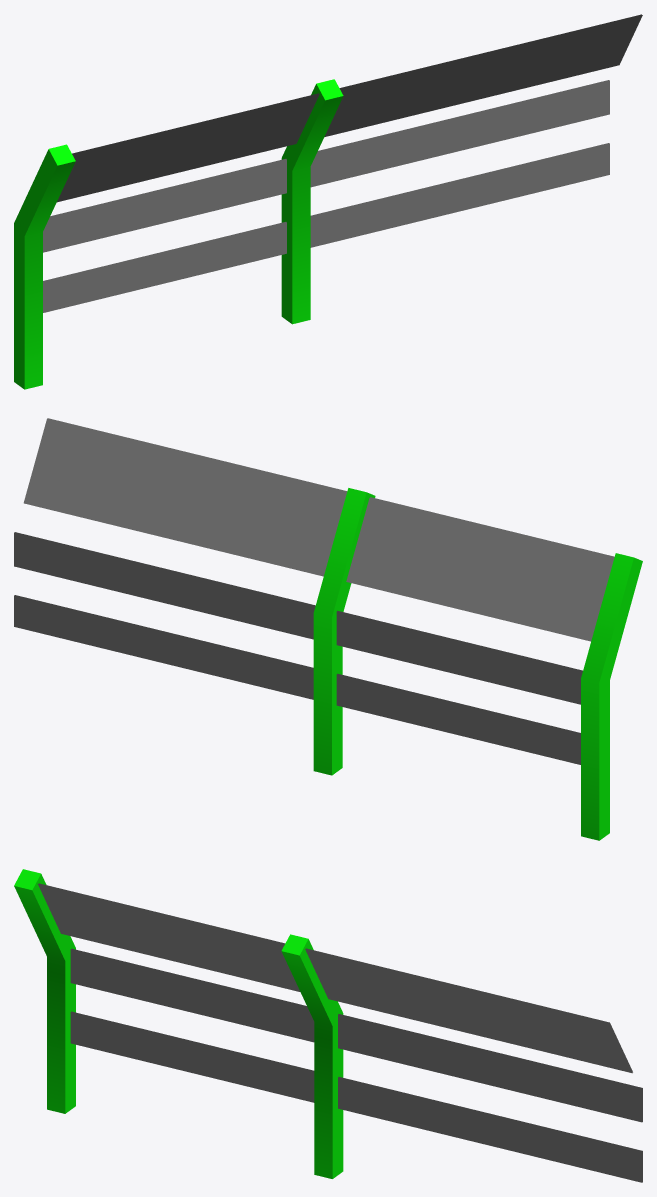
Rendered from Fence_BarbedTrim_End2.FBX.
3 renders of one model, top to bottom at view 1: azimuth 30°, elevation 25°; view 2: azimuth 150°, elevation 25°; view 3: azimuth 330°, elevation 25°, orthographic.
Parts seen in each view (by area): view 1: Fence_BarbedTrim_End2; view 2: Fence_BarbedTrim_End2; view 3: Fence_BarbedTrim_End2.
Boxes of the visible parts, x1=… form: Fence_BarbedTrim_End2: x1=14, y1=14, x2=642, y2=389; Fence_BarbedTrim_End2: x1=14, y1=418, x2=642, y2=840; Fence_BarbedTrim_End2: x1=14, y1=869, x2=642, y2=1182.
Size of the model in its own units: 2.58 by 1.08 by 0.3296.
